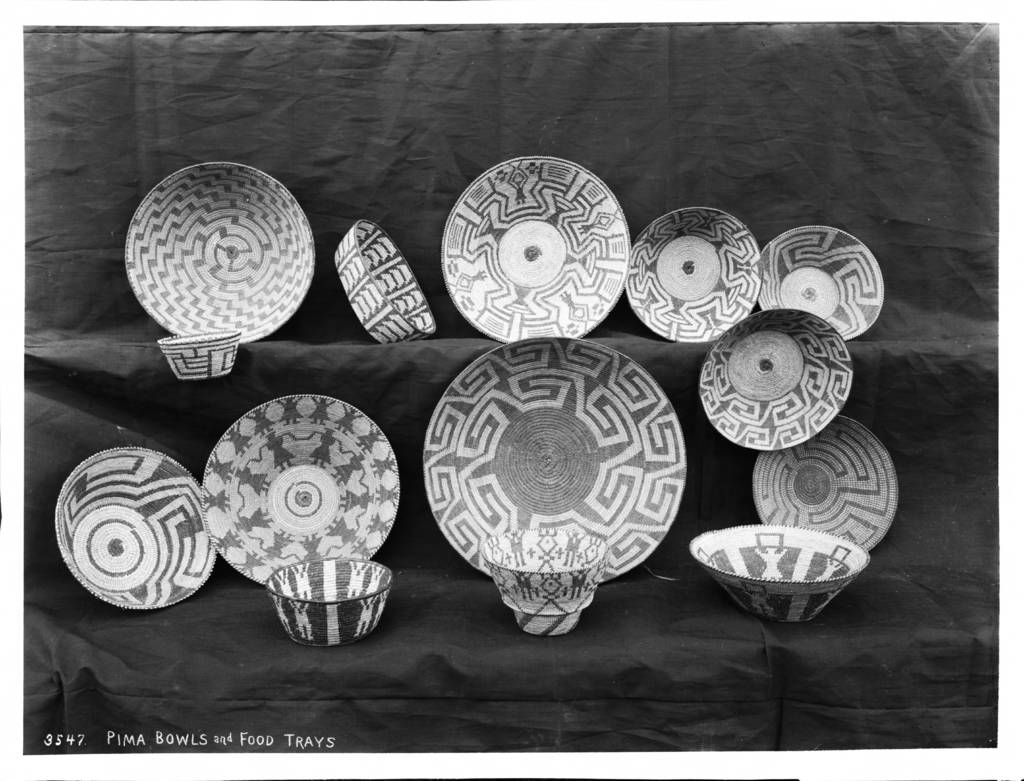plate: (421, 336, 679, 583), (127, 156, 315, 334), (440, 160, 621, 332), (694, 298, 858, 442), (761, 407, 897, 564), (625, 208, 766, 346), (750, 224, 887, 352)
